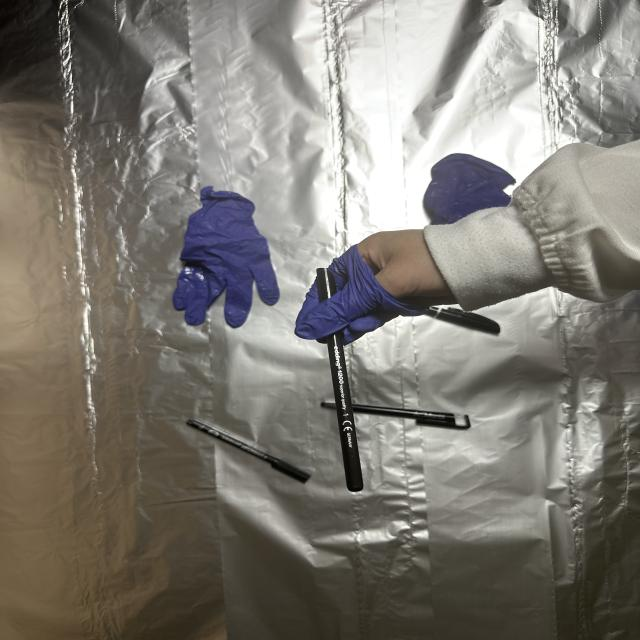glove_partial: (292, 225, 454, 351)
